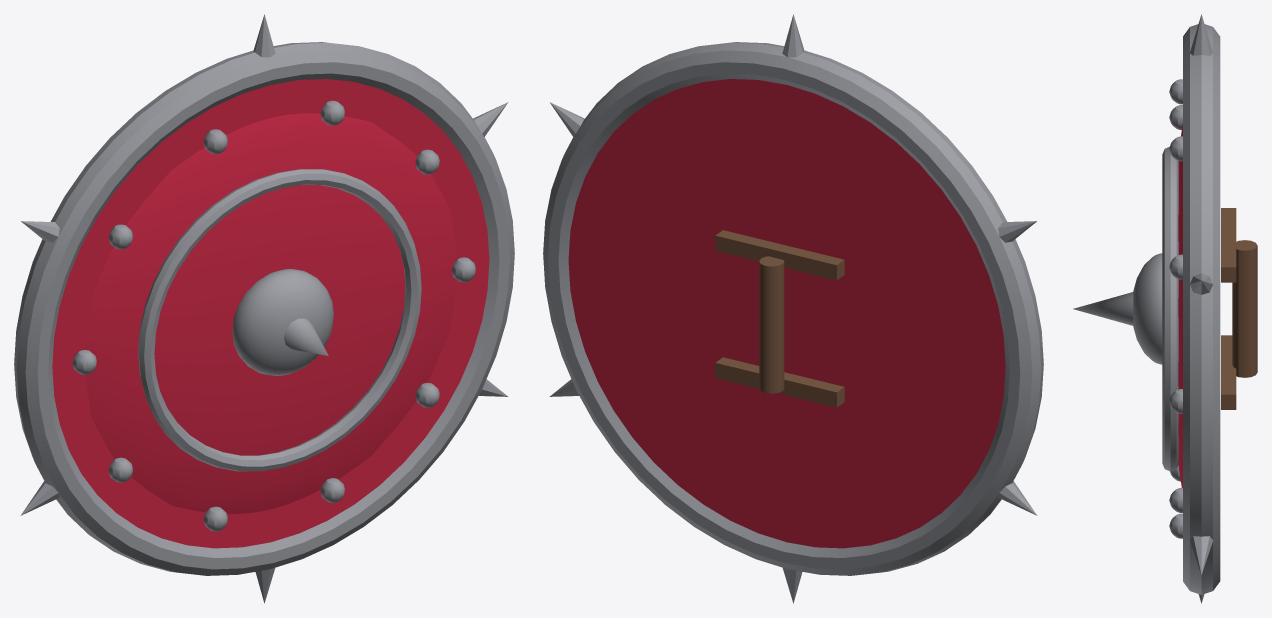
File: shield_brute.glb
3 renders of one model, left to right at view 1: azimuth 30°, elevation 25°; view 2: azimuth 150°, elevation 25°; view 3: azimuth 270°, elevation 25°, orthographic.
Visible parts, largest first — view 1: shield; view 2: shield; view 3: shield.
Boxes of the visible parts, x1,y1,x2,y2 form: shield: (14, 14, 514, 603); shield: (543, 14, 1043, 603); shield: (1073, 14, 1257, 603).
Bounding box in the file's own units: 1.12 × 1.28 × 0.3627.
